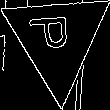P_E: (34, 19, 81, 60)
